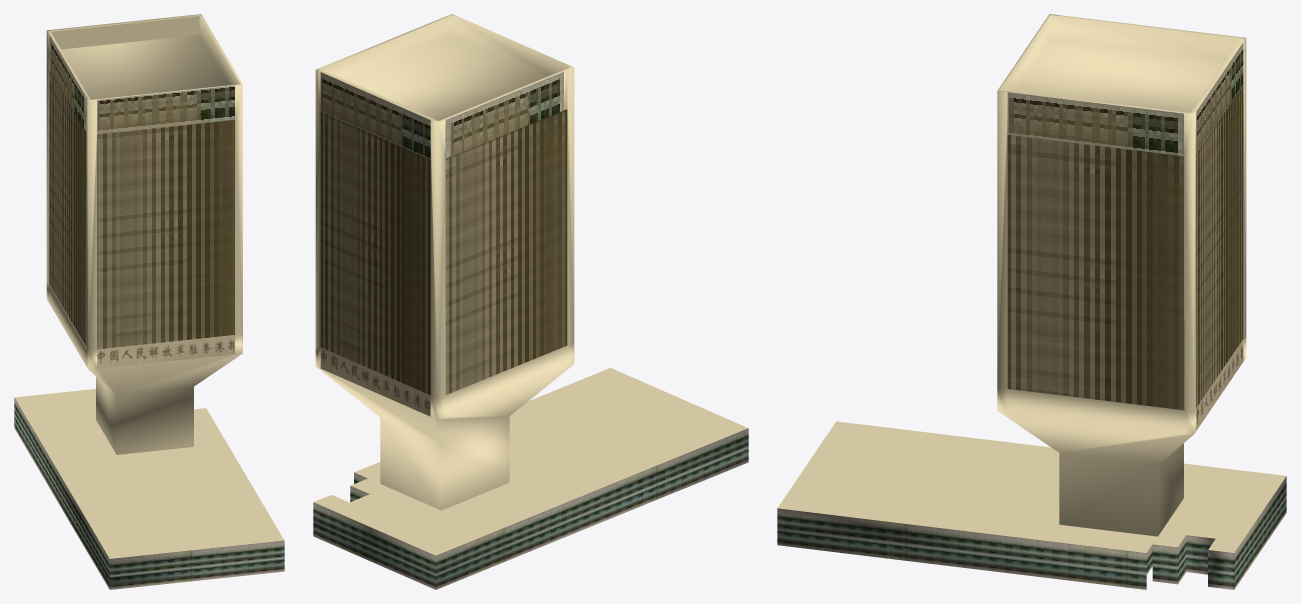
Rendered from cplaf_building.dae.
3 renders of one model, left to right at view 1: azimuth 30°, elevation 25°; view 2: azimuth 150°, elevation 25°; view 3: azimuth 270°, elevation 25°, orthographic. The views are drawn at different scales.
Parts seen in each view (by area): view 1: _Beige_1, Color_001, _Charcoal_, Color_000, _Black_, _Brown_; view 2: _Beige_1, _Charcoal_, Color_001, Color_000, _Black_, _Brown_; view 3: _Beige_1, _Charcoal_, Color_001, Color_000, _Black_, _Brown_.
Part boxes in pixels (x1,y1,x2,y2): _Beige_1: (49, 70, 234, 349); Color_001: (14, 16, 284, 558); _Charcoal_: (46, 14, 242, 454); Color_000: (14, 397, 284, 589); _Black_: (49, 35, 234, 134); _Brown_: (97, 335, 234, 368); _Beige_1: (320, 109, 567, 395); _Charcoal_: (315, 14, 574, 510); Color_001: (314, 368, 748, 555); Color_000: (313, 428, 748, 589); _Black_: (320, 72, 563, 159); _Brown_: (320, 347, 430, 416); _Beige_1: (1007, 85, 1243, 410); _Charcoal_: (997, 14, 1246, 536); Color_001: (777, 421, 1286, 552); Color_000: (777, 476, 1286, 589); _Black_: (1007, 42, 1243, 156); _Brown_: (1196, 339, 1243, 430).
Bounding box in the file's own units: 72.43 × 111 × 116.
Materials: 5 (5 with a texture image).
